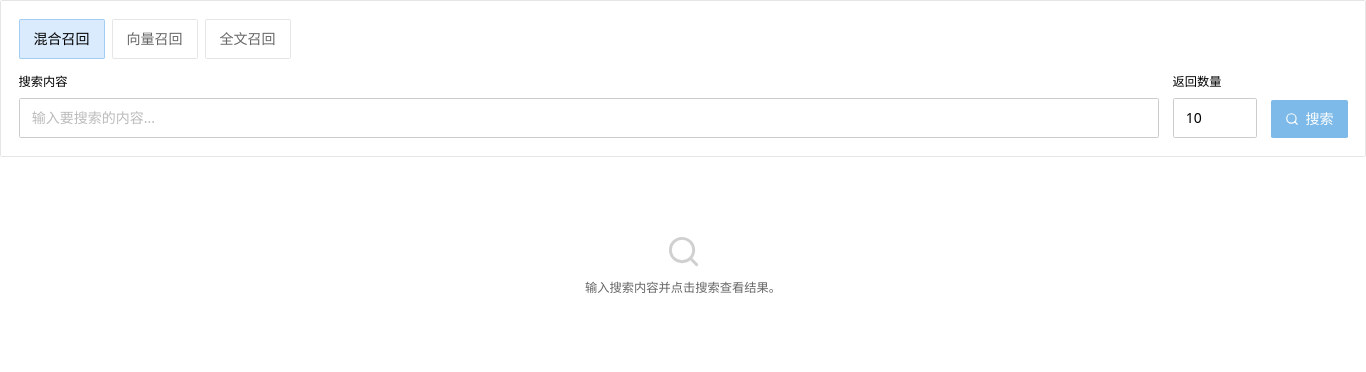
Test case: KbSearchTab › shows backend error message when knowledge search fails
The image size is (1366, 372).
Type "第一卷" into the field labelled "搜索内容" at {"x": 588, "y": 118}, box [18,98,1158,138]
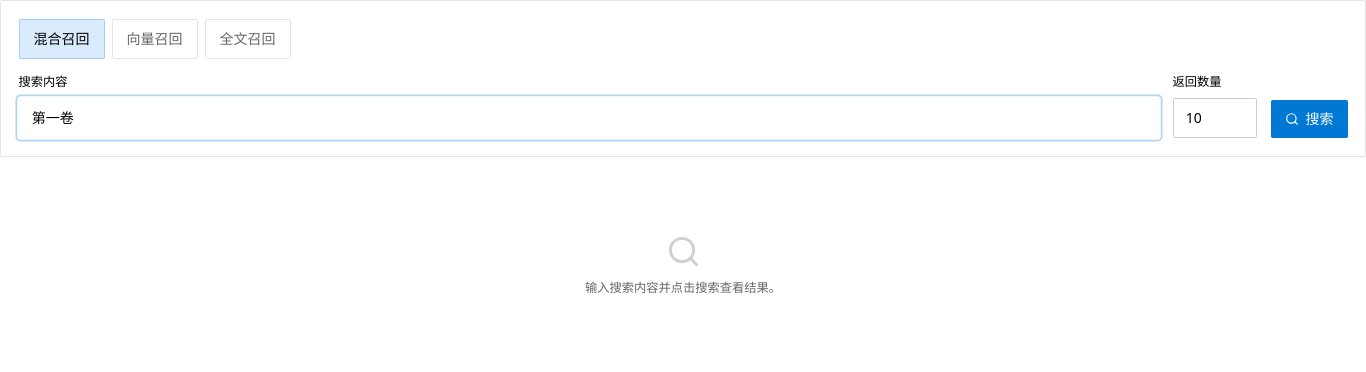
Click the button "搜索" at {"x": 1309, "y": 119}, box [1270,100,1348,138]
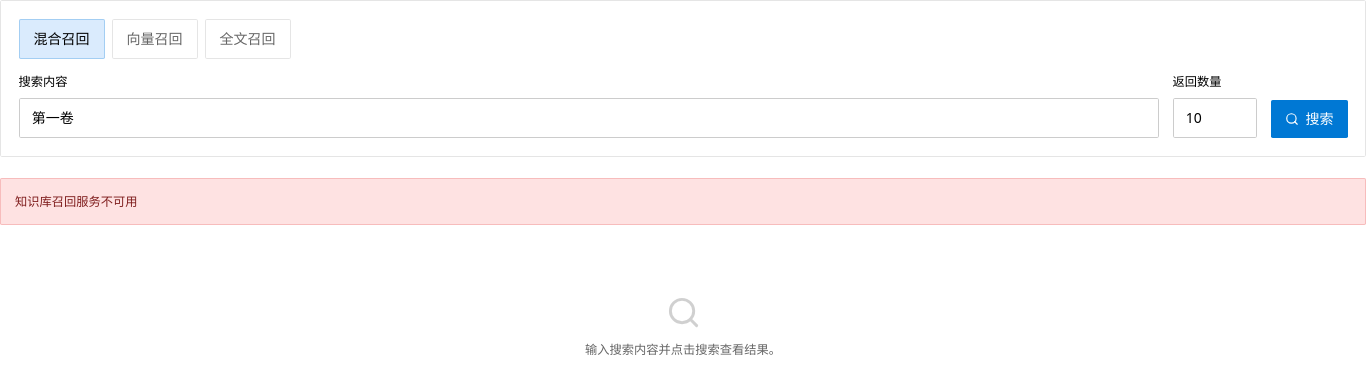
Check: the text "知识库召回服务不可用" is shown, box [0,178,1365,225]
